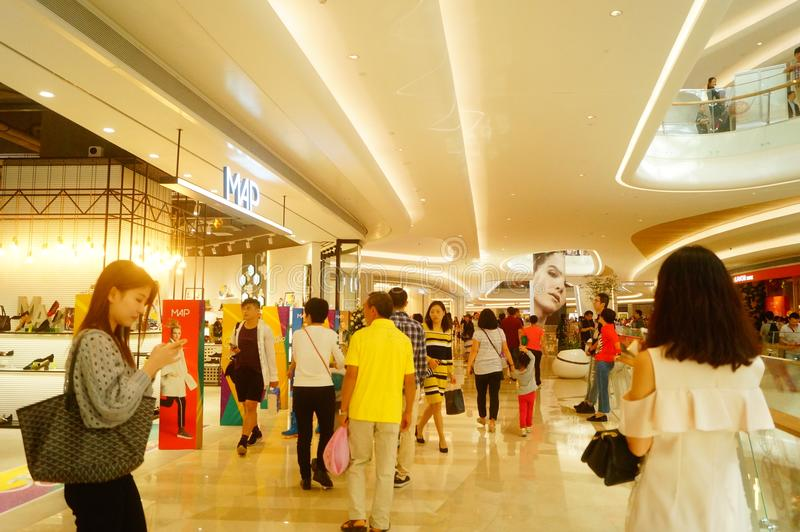Head: (107, 259, 152, 328), (362, 292, 378, 326), (240, 297, 260, 321), (428, 301, 444, 323), (593, 295, 605, 312)
